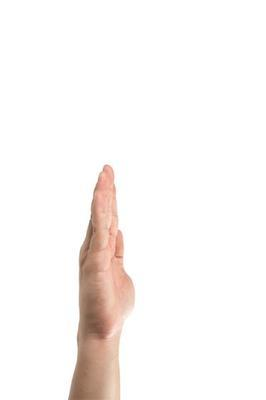paper: (64, 149, 143, 347)
